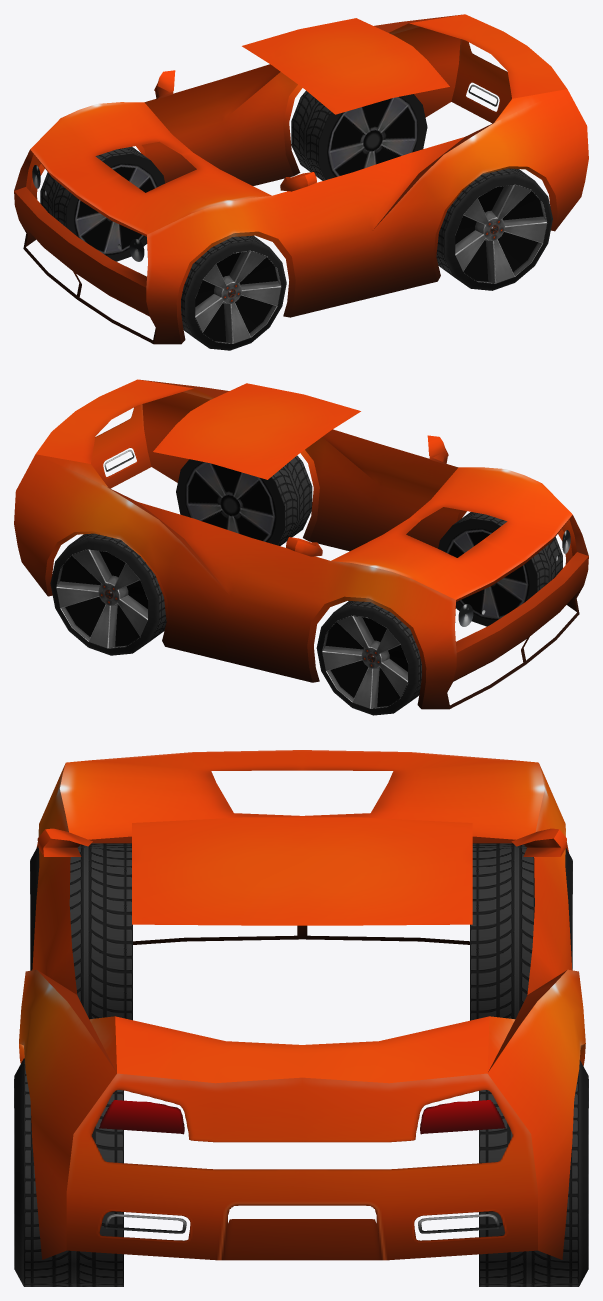
File: car_bandit.FBX
3 views of the same model, one above another, from view 1: azimuth 30°, elevation 25°; view 2: azimuth 150°, elevation 25°; view 3: azimuth 270°, elevation 25° (orthographic). The views are drawn at different scales.
Visible parts, largest first — view 1: Bandit_Body, WheelRR, WheelFR, WheelRL, WheelFL; view 2: Bandit_Body, WheelRL, WheelFL, WheelRR, WheelFR; view 3: Bandit_Body, WheelFL, WheelFR, WheelRR, WheelRL.
Part boxes in pixels (<box>): Bandit_Body: <box>14,14,588,344</box>; WheelRR: <box>436,168,552,290</box>; WheelFR: <box>181,235,286,350</box>; WheelRL: <box>291,90,427,180</box>; WheelFL: <box>40,146,165,261</box>; Bandit_Body: <box>14,379,588,709</box>; WheelRL: <box>50,533,166,655</box>; WheelFL: <box>316,601,421,715</box>; WheelRR: <box>176,455,312,545</box>; WheelFR: <box>438,512,562,626</box>; Bandit_Body: <box>19,750,585,1260</box>; WheelFL: <box>470,843,572,1020</box>; WheelFR: <box>30,843,132,1020</box>; WheelRR: <box>14,1058,123,1286</box>; WheelRL: <box>479,1060,588,1286</box>.
Size of the model in its own units: 155 by 60.84 by 91.55.
